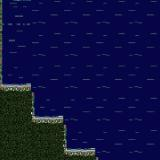Interaction: (53, 140, 107, 160), (53, 108, 75, 140), (22, 108, 52, 128), (22, 77, 40, 108), (0, 0, 7, 76), (0, 78, 22, 94)
Slow: (96, 0, 160, 160), (66, 0, 96, 147), (34, 0, 66, 117), (3, 0, 34, 83)
